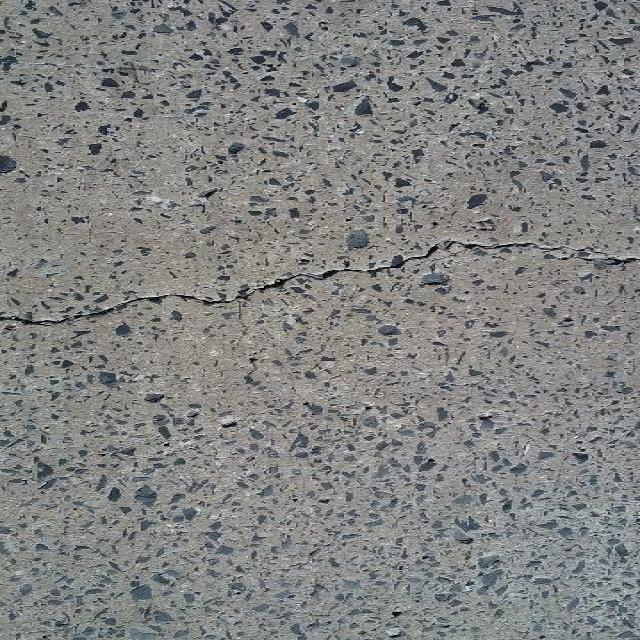moderate crack: (110, 59, 154, 84), (246, 352, 257, 369)
severe crack: (261, 246, 636, 624), (449, 50, 638, 254), (9, 248, 436, 320), (443, 236, 634, 262), (9, 298, 133, 326), (226, 272, 319, 300), (358, 244, 442, 273), (160, 290, 229, 307), (316, 266, 341, 280)
